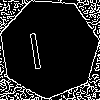I: (24, 23, 45, 70)
